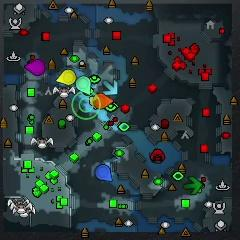p1: (95, 164, 112, 182)
p2: (75, 76, 91, 95)
p3: (25, 59, 46, 75)
p4: (56, 70, 76, 85)
p5: (94, 93, 113, 109)
x3: (103, 79, 118, 96)
x4: (184, 177, 201, 194)
